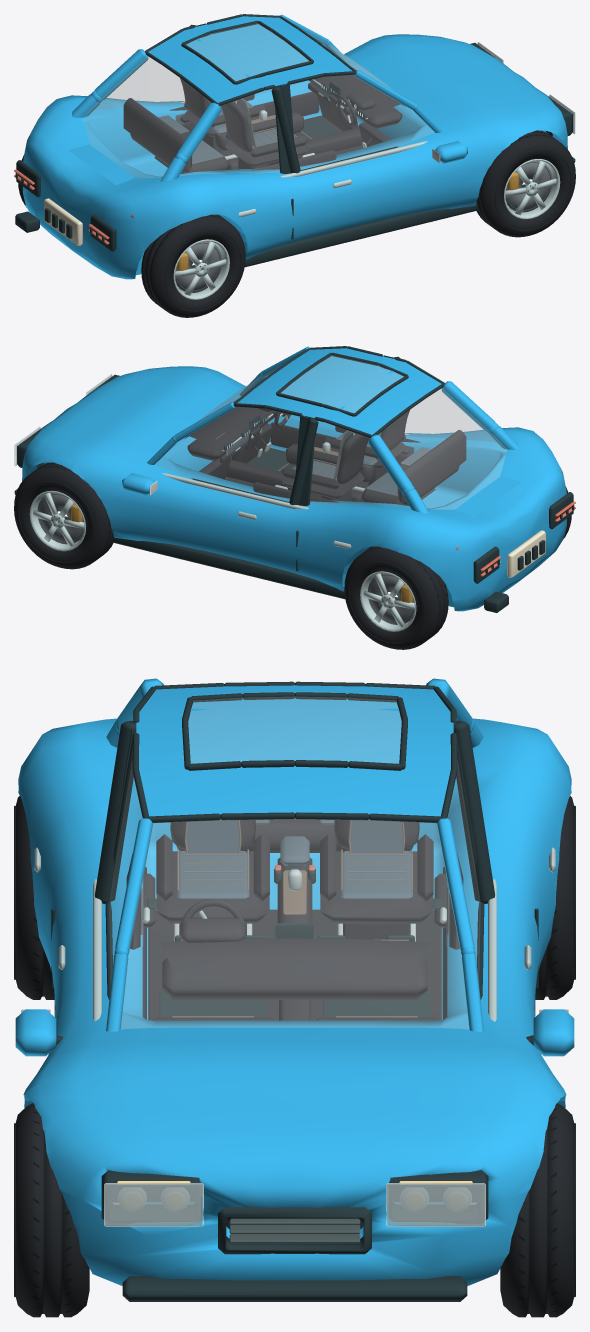
File: compact.glb
3 renders of one model, top to bottom at view 1: azimuth 30°, elevation 25°; view 2: azimuth 150°, elevation 25°; view 3: azimuth 270°, elevation 25°, orthographic. The views are drawn at different scales.
Visible parts, largest first — view 1: Paint compact, Automotive glass, Rolling wheels, Cabin upholstery, Tyre rubber, Tailored cabin leather, Wheel hubs, Warm white trim; view 2: Paint compact, Automotive glass, Rolling wheels, Cabin upholstery, Tyre rubber, Tailored cabin leather, Wheel hubs, Warm white trim; view 3: Paint compact, Automotive glass, Cabin upholstery, Tyre rubber, Rolling wheels, Tailored cabin leather, Lamp crystal, Wheel hubs, Pickup bed, Seat stitching and console.
Part boxes in pixels (left/top/right/bottom): Paint compact: left=23, top=14, right=567, bottom=279; Automotive glass: left=83, top=23, right=433, bottom=177; Rolling wheels: left=18, top=130, right=575, bottom=317; Cabin upholstery: left=123, top=67, right=405, bottom=173; Tyre rubber: left=15, top=14, right=575, bottom=268; Tailored cabin leather: left=158, top=79, right=333, bottom=164; Wheel hubs: left=180, top=79, right=427, bottom=216; Warm white trim: left=44, top=105, right=355, bottom=245; Paint compact: left=22, top=346, right=566, bottom=611; Automotive glass: left=155, top=355, right=506, bottom=509; Rolling wheels: left=14, top=462, right=571, bottom=649; Cabin upholstery: left=184, top=399, right=466, bottom=505; Tyre rubber: left=14, top=346, right=574, bottom=612; Tailored cabin leather: left=226, top=430, right=431, bottom=496; Wheel hubs: left=162, top=413, right=409, bottom=548; Warm white trim: left=507, top=530, right=545, bottom=577; Paint compact: left=15, top=678, right=574, bottom=1285; Automotive glass: left=109, top=696, right=480, bottom=1028; Cabin upholstery: left=126, top=818, right=463, bottom=1020; Tyre rubber: left=51, top=681, right=538, bottom=1301; Rolling wheels: left=14, top=796, right=575, bottom=1317; Tailored cabin leather: left=140, top=819, right=449, bottom=946; Lamp crystal: left=104, top=1183, right=485, bottom=1226; Wheel hubs: left=34, top=847, right=555, bottom=1021; Pickup bed: left=229, top=1218, right=360, bottom=1243; Seat stitching and console: left=172, top=820, right=417, bottom=1017.
Bounding box in the file's own units: 1.93 × 0.7377 × 0.9956.
